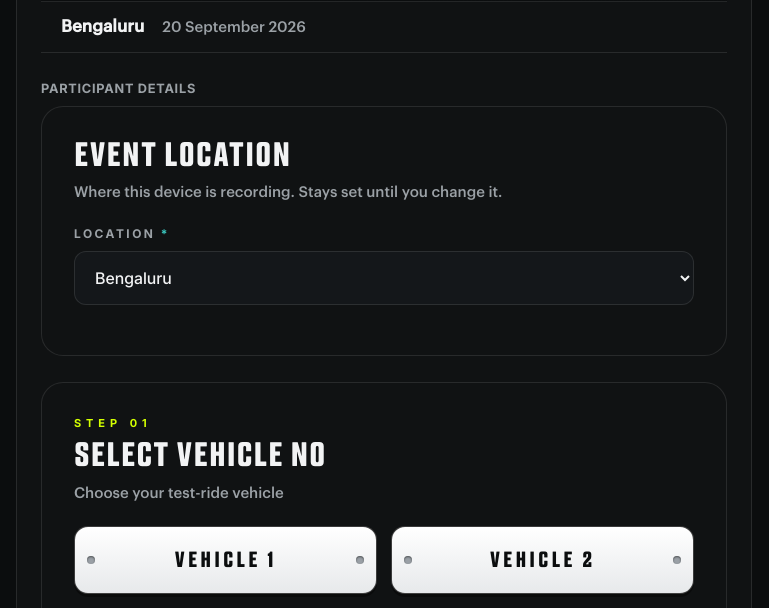
it: changing the city › lets the operator switch, and remembers the new one
The width and height of the screenshot is (769, 608).
(page scrolled)
Select "Hyderabad" in the dropdown labelled "Location *" at (384, 278), box [74,251,694,305]
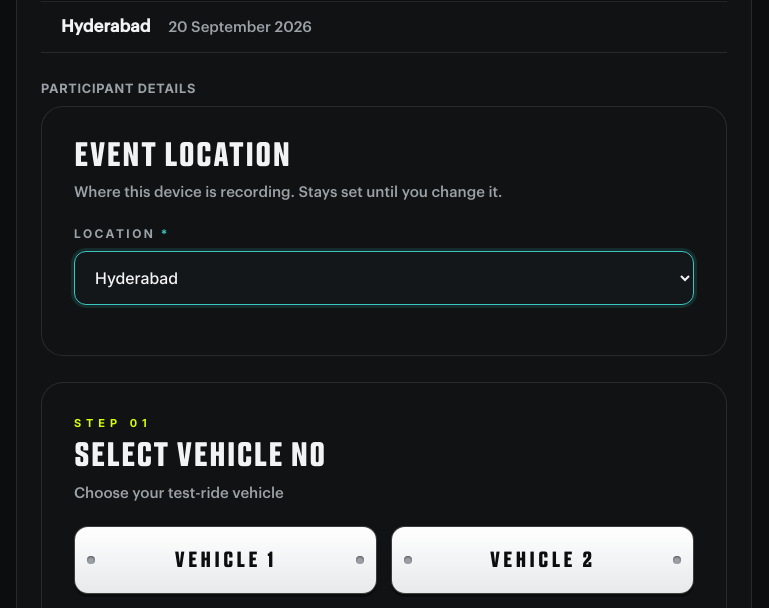
Expected: the text "Hyderabad" is shown, [61,14,150,40]
